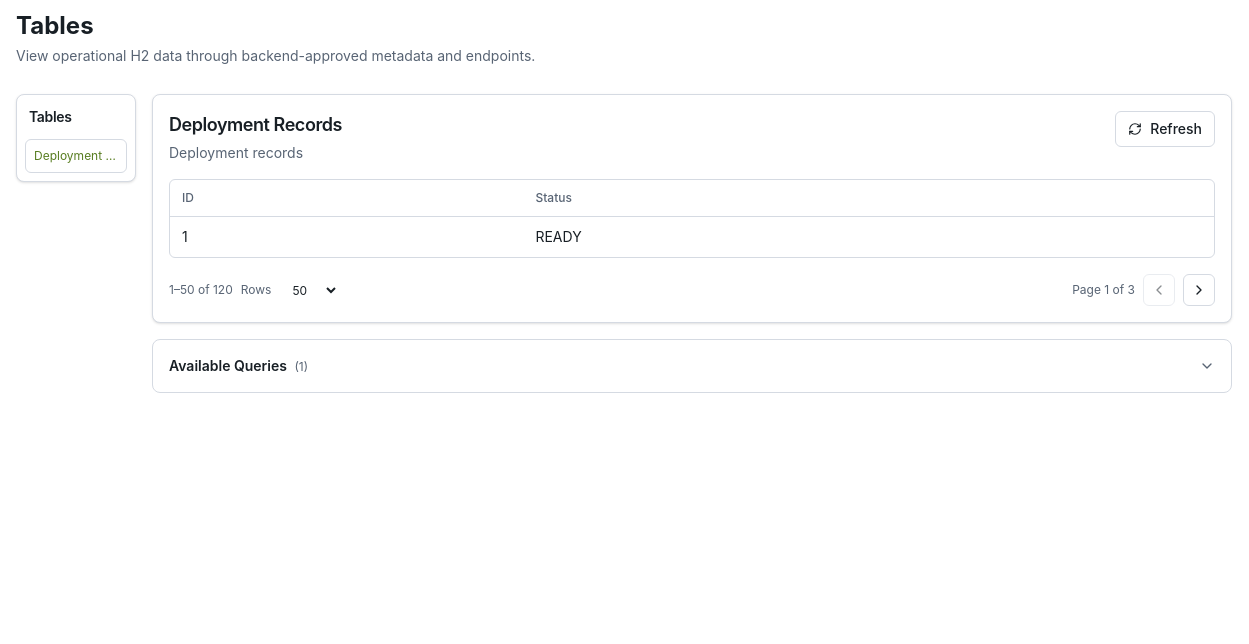
Test: TablesPage metadata-driven queries › shows query API errors without refreshing the table
Expected: the button "READY" is shown, [535, 227, 855, 247]
Click the heading "Available Queries (1)" at (230, 366), box [169, 357, 1215, 374]
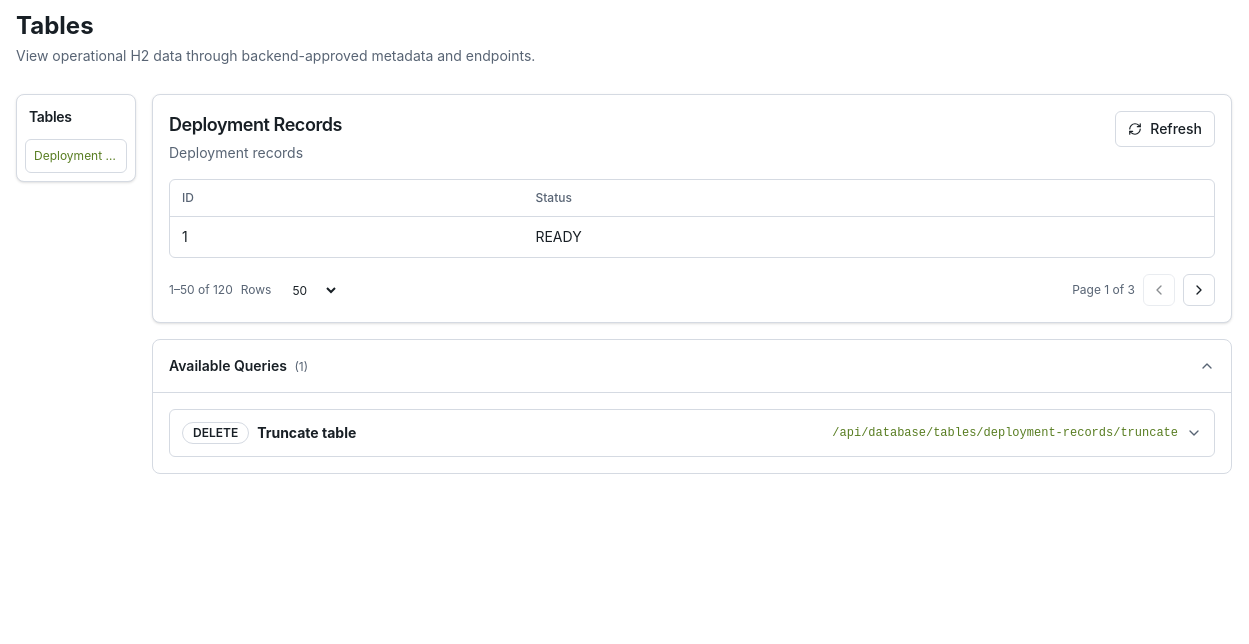
Click the text "Truncate table" at (307, 433), box [257, 423, 356, 443]
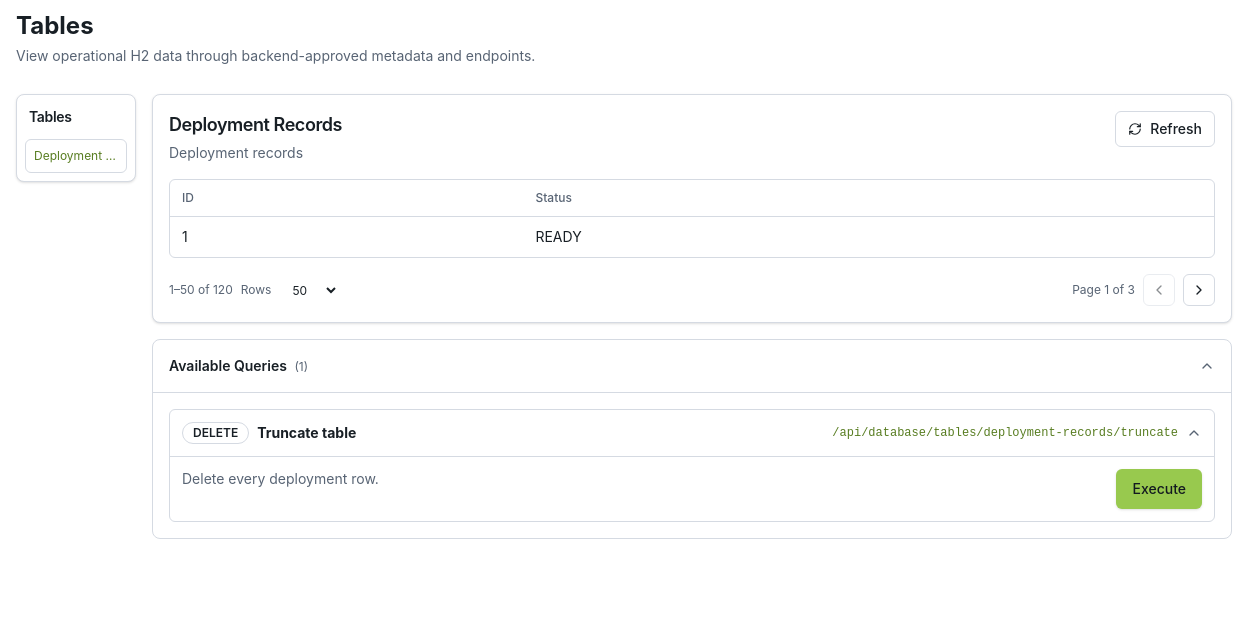
Click the button "Execute" at (1159, 489), box [1116, 469, 1202, 509]
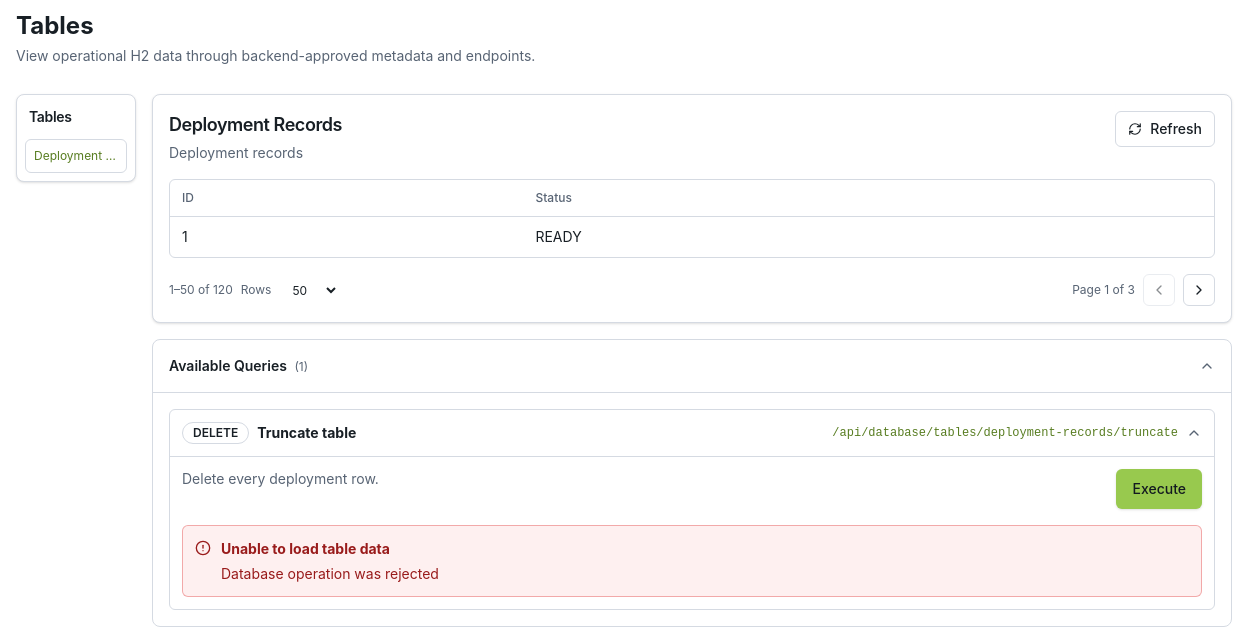
Now the text "Database operation was rejected" is shown, box [221, 563, 439, 584]
